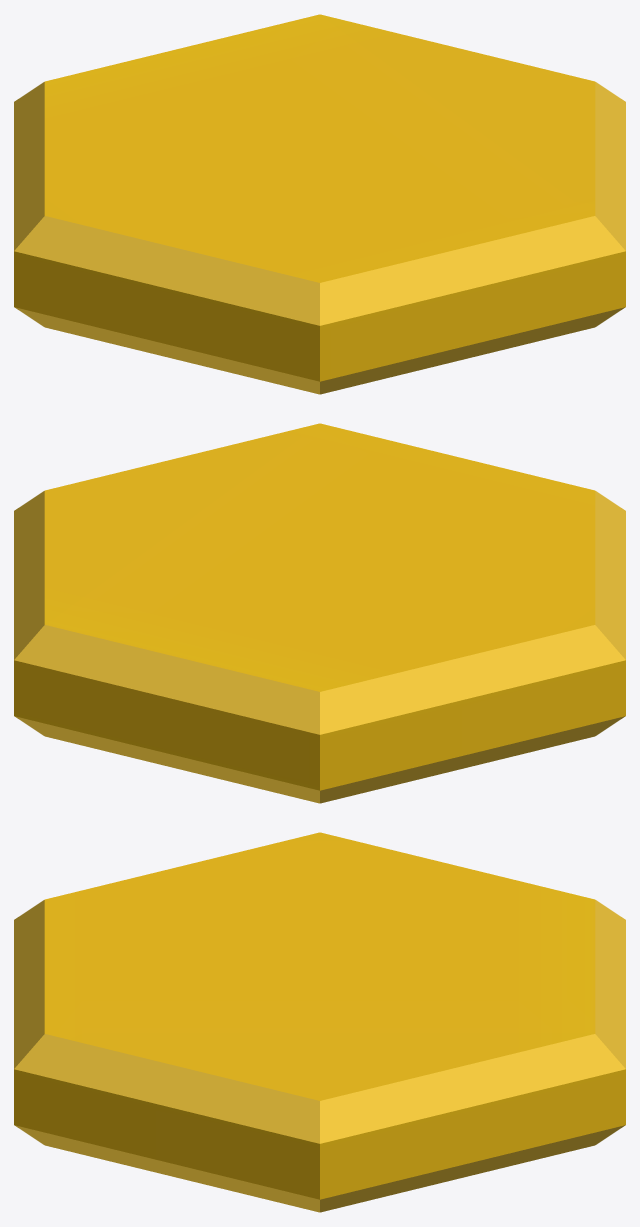
File: CoinGold_Mesh.fbx
3 views of the same model, one above another, from view 1: azimuth 30°, elevation 25°; view 2: azimuth 150°, elevation 25°; view 3: azimuth 270°, elevation 25° (orthographic).
Visible parts, largest first — view 1: CoinGold_Mesh; view 2: CoinGold_Mesh; view 3: CoinGold_Mesh.
Boxes of the visible parts, box(x1,y1,x2,y2) form: CoinGold_Mesh: box(14, 14, 625, 394); CoinGold_Mesh: box(14, 423, 625, 803); CoinGold_Mesh: box(14, 832, 625, 1212).
Bounding box in the file's own units: 3.04 × 0.5305 × 2.64.
1 material, 1 textured.
